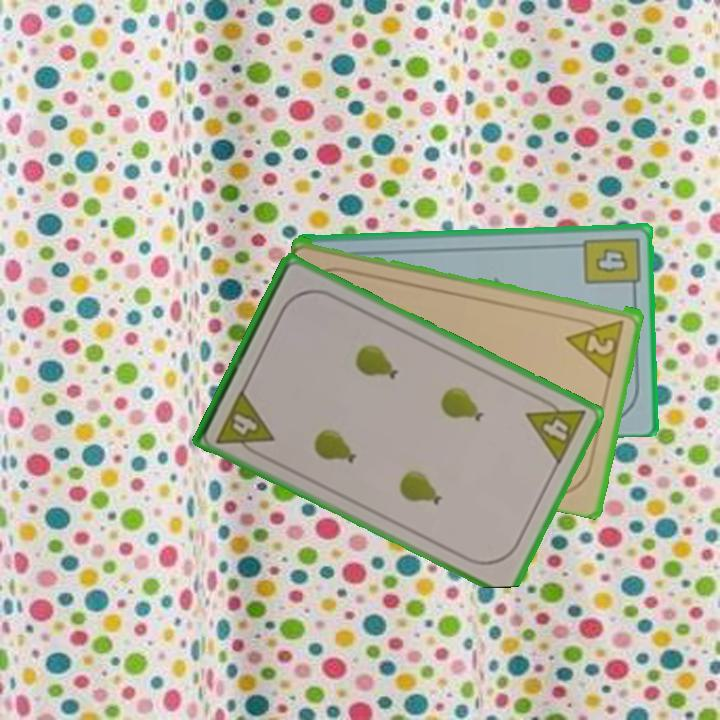2p: (563, 315, 627, 378)
4b: (580, 233, 642, 296)
4p: (522, 390, 590, 468), (212, 385, 277, 461)
